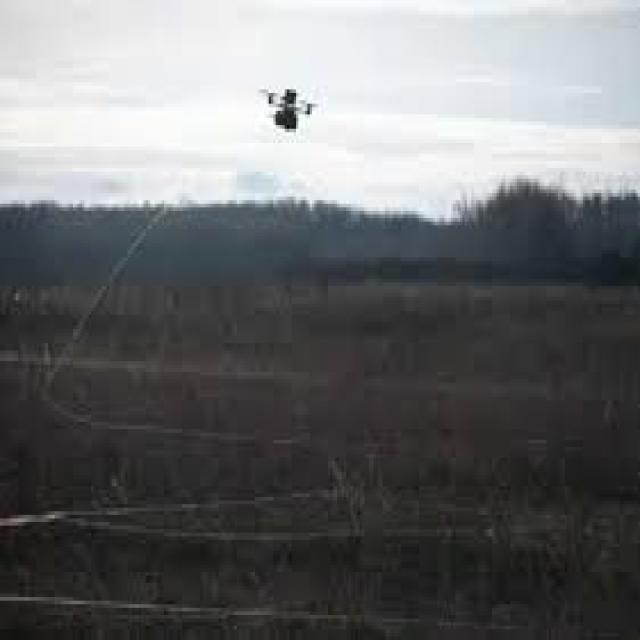drone: (254, 81, 326, 139)
